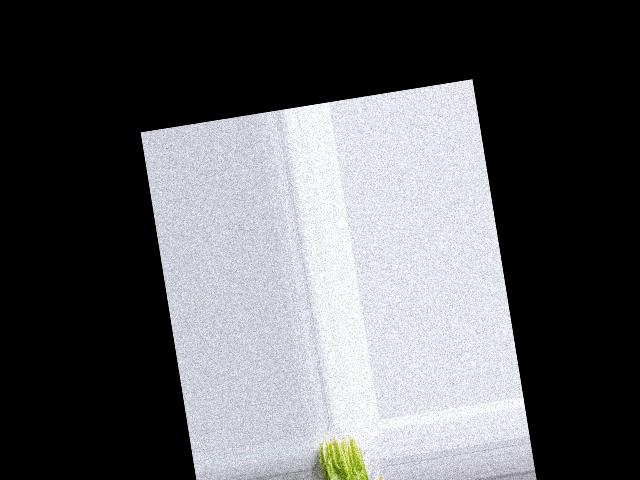lettuce: (314, 432, 373, 480)
